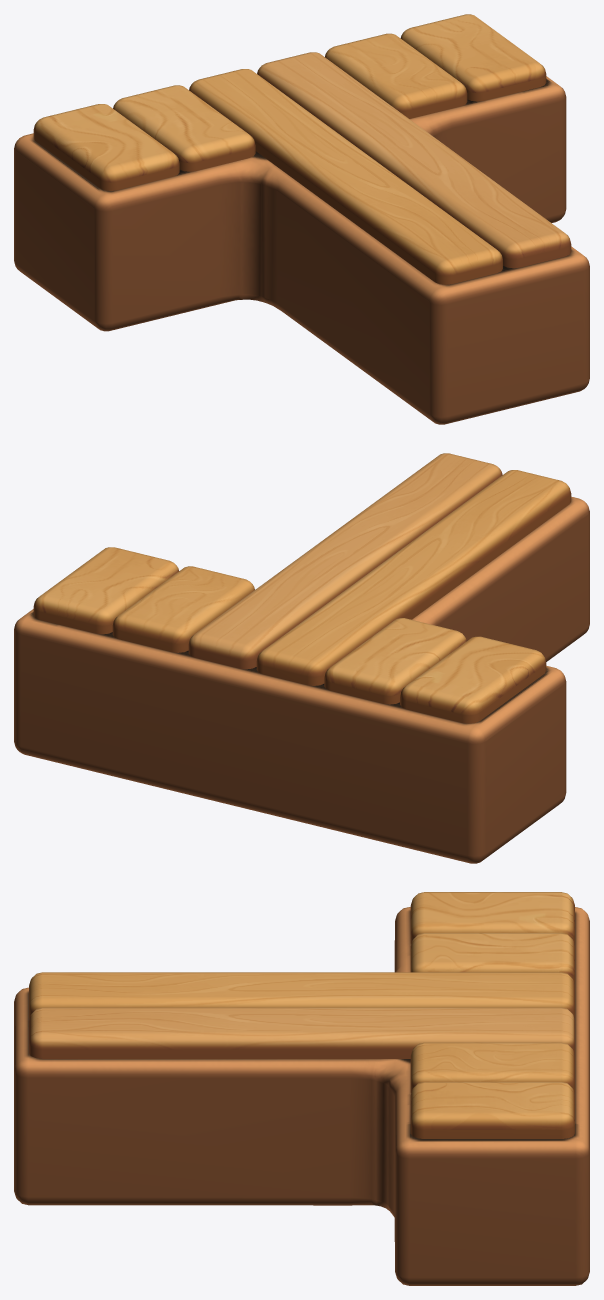
The model's file is WoodenBox_T_3x3.fbx.
3 renders of one model, top to bottom at view 1: azimuth 30°, elevation 25°; view 2: azimuth 150°, elevation 25°; view 3: azimuth 270°, elevation 25°, orthographic. The views are drawn at different scales.
Parts seen in each view (by area): view 1: box_T_3x3; view 2: box_T_3x3; view 3: box_T_3x3.
Boxes of the visible parts, x1=… form: box_T_3x3: x1=14, y1=14, x2=589, y2=424; box_T_3x3: x1=14, y1=453, x2=589, y2=863; box_T_3x3: x1=14, y1=892, x2=589, y2=1285.
Bounding box in the file's own units: 3.02 × 0.9612 × 3.02.
